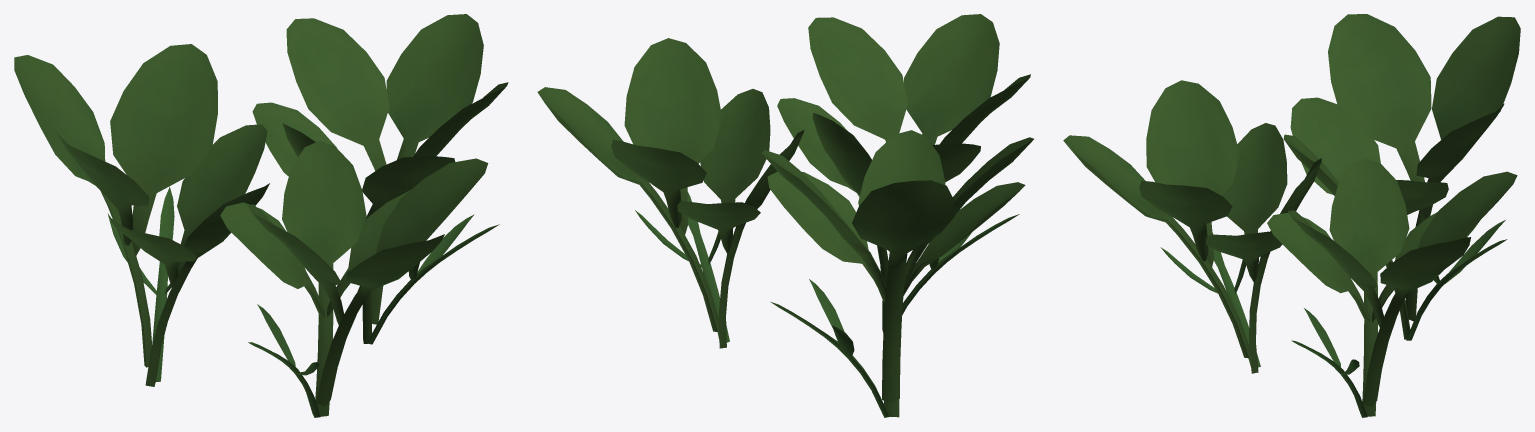
File: Crop_Spinach_Stage_04.fbx
3 views of the same model, side by side, from view 1: azimuth 30°, elevation 25°; view 2: azimuth 150°, elevation 25°; view 3: azimuth 270°, elevation 25° (orthographic). The views are drawn at different scales.
Visible parts, largest first — view 1: Spinach_Stage_04; view 2: Spinach_Stage_04; view 3: Spinach_Stage_04.
Part boxes in pixels (x1,y1,x2,y2): Spinach_Stage_04: [14, 14, 508, 417]; Spinach_Stage_04: [537, 14, 1033, 417]; Spinach_Stage_04: [1063, 14, 1520, 417].
Bounding box in the file's own units: 52.29 × 33.5 × 48.69.
